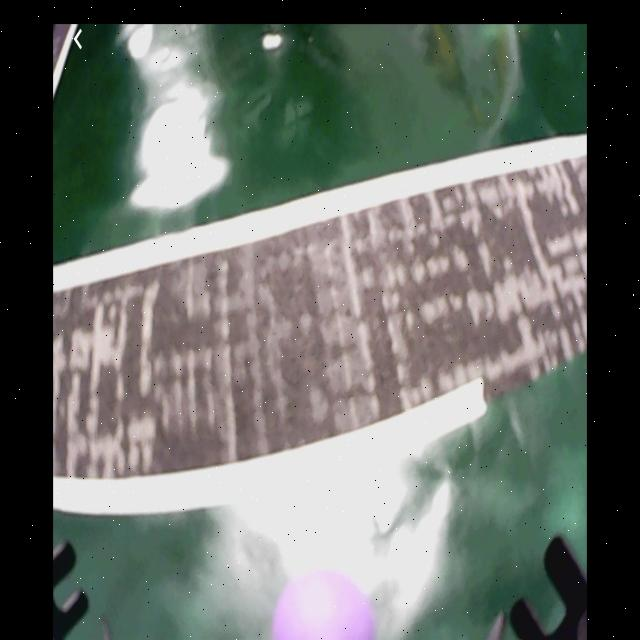ball: (271, 573, 374, 640)
